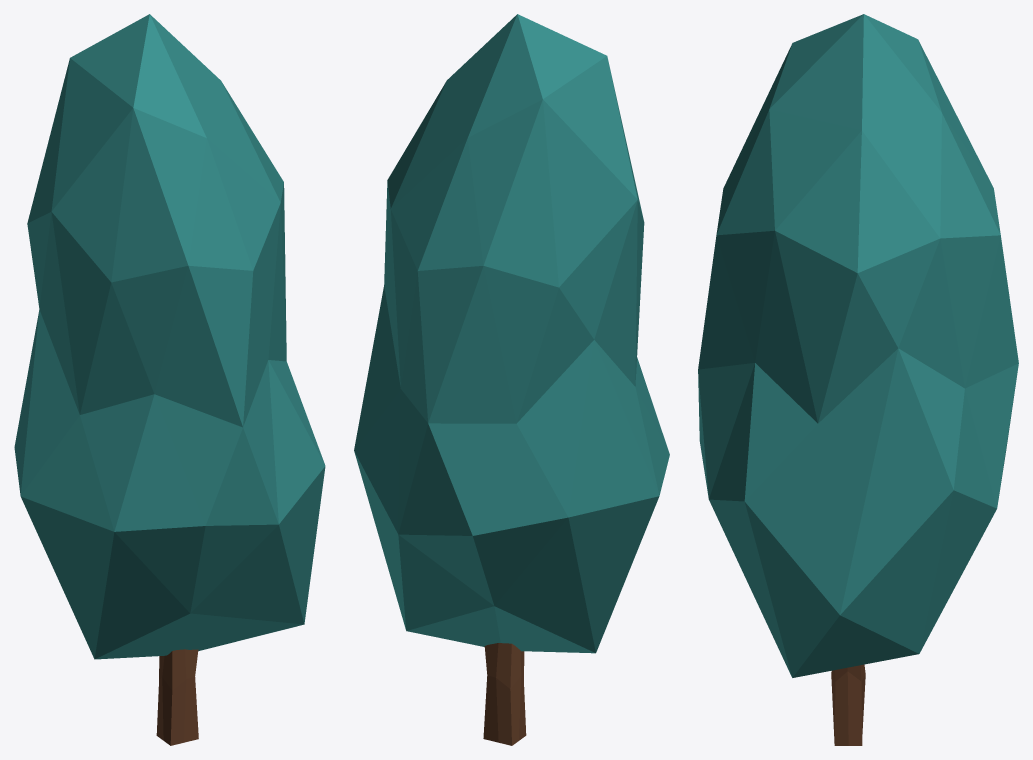
The model's file is Tree_60_Blue.fbx.
The picture shows the model from 3 angles, left to right: view 1: azimuth 30°, elevation 25°; view 2: azimuth 150°, elevation 25°; view 3: azimuth 270°, elevation 25°; orthographic projection. The views are drawn at different scales.
Visible parts, largest first — view 1: Tree_60_Blue_Part_1, Tree_60_Blue_Part_2; view 2: Tree_60_Blue_Part_1, Tree_60_Blue_Part_2; view 3: Tree_60_Blue_Part_1, Tree_60_Blue_Part_2.
Part boxes in pixels (x1,y1,x2,y2): Tree_60_Blue_Part_1: (14,14,325,659); Tree_60_Blue_Part_2: (156,649,198,745); Tree_60_Blue_Part_1: (354,14,669,653); Tree_60_Blue_Part_2: (483,643,526,745); Tree_60_Blue_Part_1: (698,14,1018,677); Tree_60_Blue_Part_2: (831,664,865,745).
Size of the model in its own units: 327 by 788 by 320.
